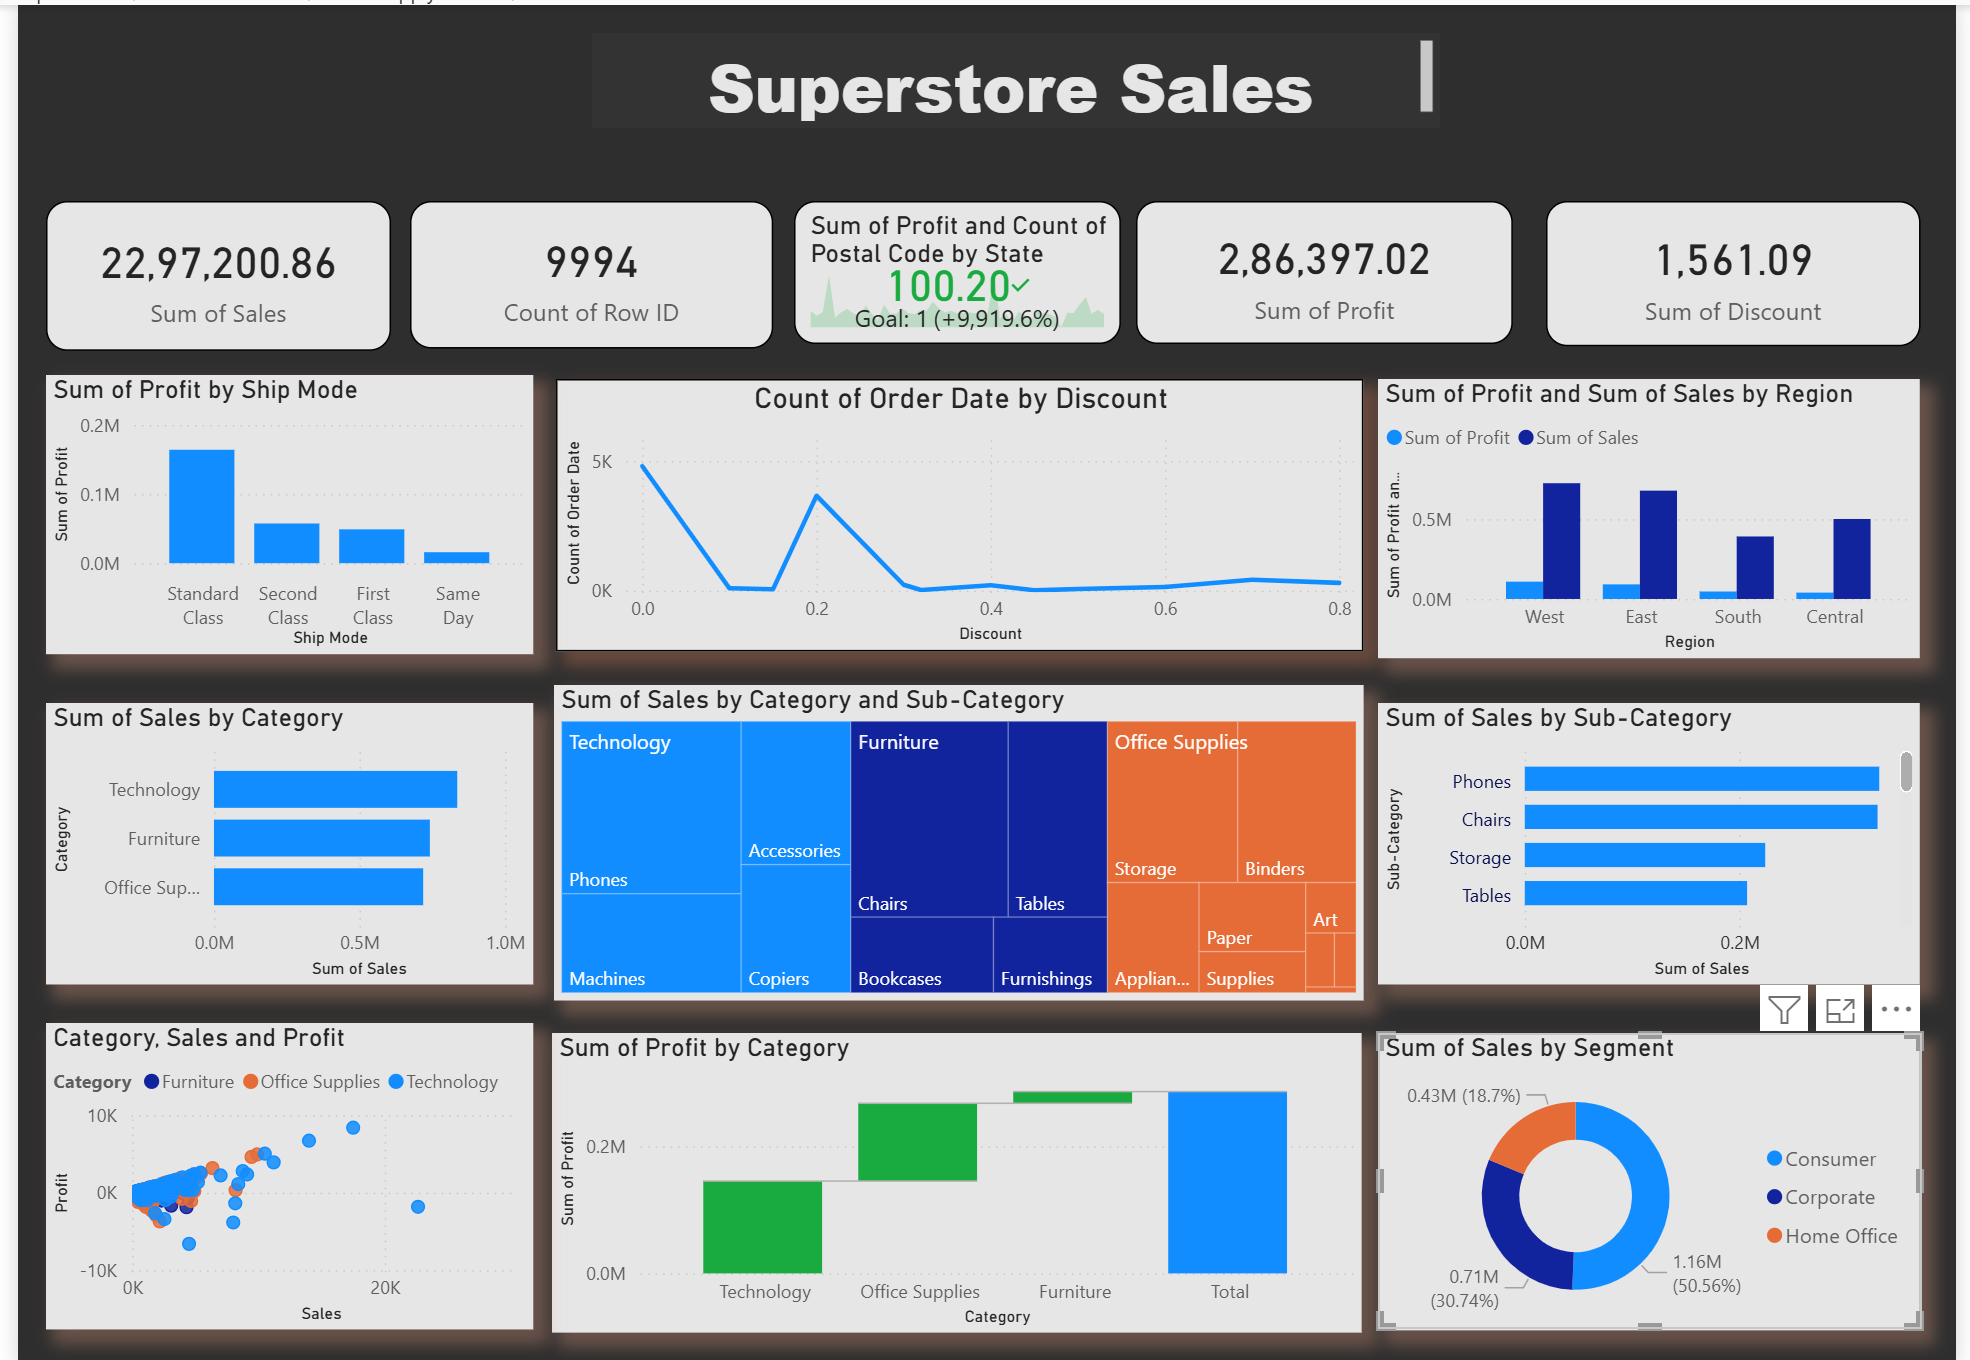

This screenshot's page, from the dashboard's own definition file:
{"tool":"powerbi","page":{"name":"Page 1","canvas":[1280,900],"ordinal":0},"visuals":[{"type":"card","fields":{"Values":["Sum(Sample - Superstore.Sales)"]},"box":[18,128.9,227.8,98.9],"z":0},{"type":"card","fields":{"Values":["Sum(Sample - Superstore.Profit)"]},"box":[738.9,128.9,248.8,94.4],"z":1000},{"type":"card","fields":{"Values":["Sum(Sample - Superstore.Discount)"]},"box":[1010.2,128.9,247.3,95.9],"z":2000},{"type":"card","fields":{"Values":["CountNonNull(Sample - Superstore.Row ID)"]},"box":[259.3,128.9,239.8,97.4],"z":3000},{"type":"lineChart","fields":{"Y":["CountNonNull(Sample - Superstore.Order Date)"],"Category":["Sample - Superstore.Discount"]},"box":[355.2,247.3,533.6,179.9],"z":4000},{"type":"treemap","fields":{"Values":["Sum(Sample - Superstore.Sales)"],"Group":["Sample - Superstore.Category"],"Details":["Sample - Superstore.Sub-Category"]},"box":[353.7,449.6,535.1,208.3],"z":5000},{"type":"waterfallChart","fields":{"Category":["Sample - Superstore.Category"],"Y":["Sum(Sample - Superstore.Profit)"]},"box":[352.2,679,535.1,197.8],"z":6000},{"type":"clusteredBarChart","fields":{"Y":["Sum(Sample - Superstore.Sales)"],"Category":["Sample - Superstore.Category"]},"box":[18,461.6,322.2,185.9],"z":7000},{"type":"clusteredBarChart","fields":{"Y":["Sum(Sample - Superstore.Sales)"],"Category":["Sample - Superstore.Sub-Category"]},"box":[899.3,461.6,358.2,185.9],"z":8000},{"type":"donutChart","fields":{"Y":["Sum(Sample - Superstore.Sales)"],"Category":["Sample - Superstore.Segment"]},"box":[899.3,679,358.2,196.3],"z":9000},{"type":"scatterChart","fields":{"X":["Sample - Superstore.Sales"],"Y":["Sample - Superstore.Profit"],"Series":["Sample - Superstore.Category"]},"box":[18,673,322.2,202.3],"z":10000},{"type":"clusteredColumnChart","fields":{"Category":["Sample - Superstore.Ship Mode"],"Y":["Sum(Sample - Superstore.Profit)"]},"box":[18,244.3,322.2,184.4],"z":11000},{"type":"lineClusteredColumnComboChart","fields":{"Category":["Sample - Superstore.Region"],"Y":["Sum(Sample - Superstore.Profit)","Sum(Sample - Superstore.Sales)"]},"box":[899.3,247.3,358.2,184.4],"z":12000},{"type":"kpi","fields":{"TrendLine":["Sample - Superstore.State"],"Indicator":["Sum(Sample - Superstore.Profit)"],"Goal":["CountNonNull(Sample - Superstore.Postal Code)"]},"box":[512.6,128.9,215.8,94.4],"z":13000},{"type":"textbox","box":[379.2,18,560.6,63],"z":14000}]}

Visuals, with their boxes in screenshot pixels (x1, y1, x2, y2), scaled from the page's 1280x900 canvas onto the 1970x1360 screenshot:
card - Sum(Sample - Superstore.Sales): 28,195,378,344
card - Sum(Sample - Superstore.Profit): 1137,195,1520,337
card - Sum(Sample - Superstore.Discount): 1555,195,1935,340
card - CountNonNull(Sample - Superstore.Row ID): 399,195,768,342
lineChart - CountNonNull(Sample - Superstore.Order Date) x Sample - Superstore.Discount: 547,374,1368,646
treemap - Sum(Sample - Superstore.Sales) x Sample - Superstore.Category: 544,679,1368,994
waterfallChart - Sample - Superstore.Category x Sum(Sample - Superstore.Profit): 542,1026,1366,1325
clusteredBarChart - Sum(Sample - Superstore.Sales) x Sample - Superstore.Category: 28,698,524,978
clusteredBarChart - Sum(Sample - Superstore.Sales) x Sample - Superstore.Sub-Category: 1384,698,1935,978
donutChart - Sum(Sample - Superstore.Sales) x Sample - Superstore.Segment: 1384,1026,1935,1323
scatterChart - Sample - Superstore.Sales x Sample - Superstore.Profit: 28,1017,524,1323
clusteredColumnChart - Sample - Superstore.Ship Mode x Sum(Sample - Superstore.Profit): 28,369,524,648
lineClusteredColumnComboChart - Sample - Superstore.Region x Sum(Sample - Superstore.Profit): 1384,374,1935,652
kpi - Sample - Superstore.State x Sum(Sample - Superstore.Profit): 789,195,1121,337
textbox: 584,27,1446,122
